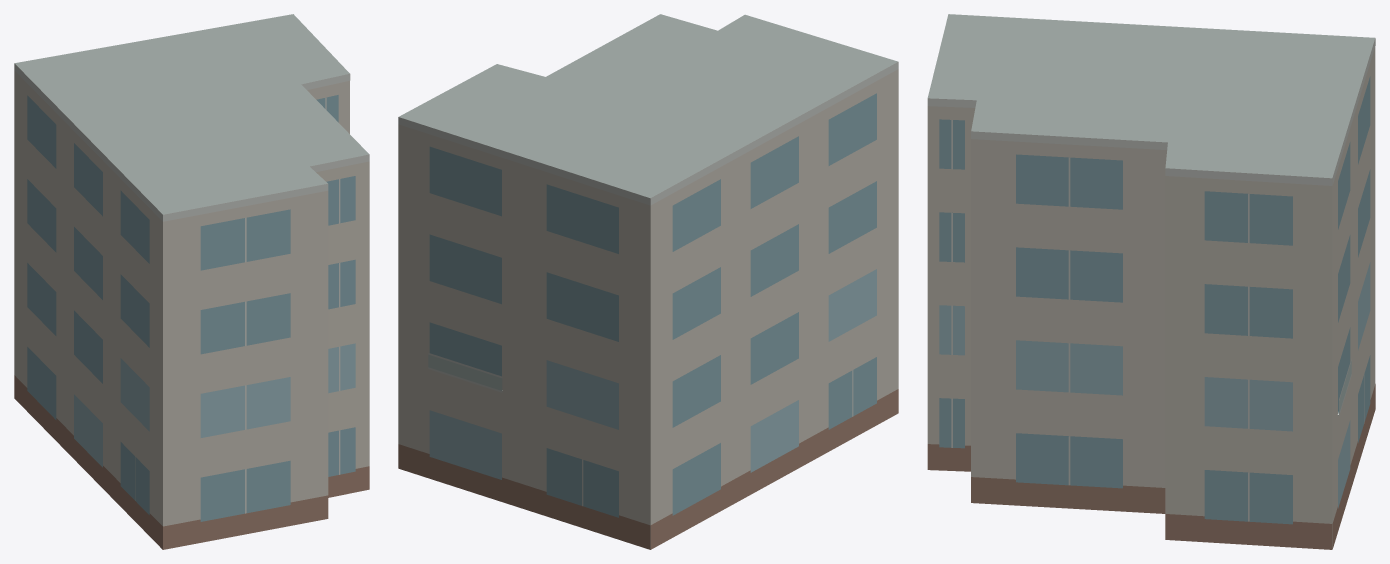
File: survey-upis-32631262.glb
3 renders of one model, left to right at view 1: azimuth 30°, elevation 25°; view 2: azimuth 150°, elevation 25°; view 3: azimuth 270°, elevation 25°, orthographic. The views are drawn at different scales.
Parts seen in each view (by area): view 1: survey-upis-32631262.tmp; view 2: survey-upis-32631262.tmp; view 3: survey-upis-32631262.tmp.
Part boxes in pixels (<box>): survey-upis-32631262.tmp: <box>14,14,369,549</box>; survey-upis-32631262.tmp: <box>398,14,898,549</box>; survey-upis-32631262.tmp: <box>927,14,1375,549</box>.
Bounding box in the file's own units: 11.1 × 11.7 × 12.79.
